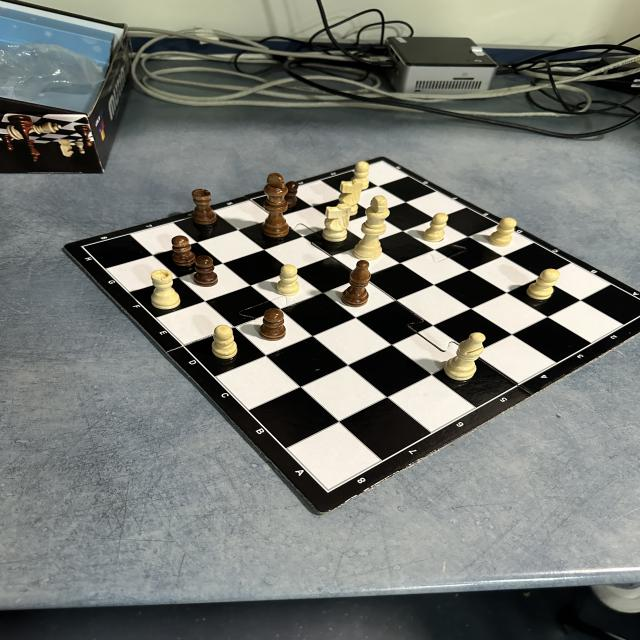Black-Bishop: (342, 260, 372, 307)
Black-King: (263, 172, 290, 238)
Black-Pawn: (192, 255, 218, 287), (171, 236, 196, 266), (285, 181, 299, 208)
Black-Rook: (191, 188, 217, 225)
White-Bishop: (444, 332, 487, 381)
White-King: (352, 195, 390, 260)
White-Knight: (322, 202, 352, 242), (336, 180, 363, 217)
White-Pawn: (526, 268, 560, 300), (210, 324, 238, 360), (488, 217, 517, 247), (260, 308, 286, 340), (423, 212, 449, 242), (276, 264, 300, 296), (351, 161, 371, 190)
White-Rook: (150, 269, 182, 310)
